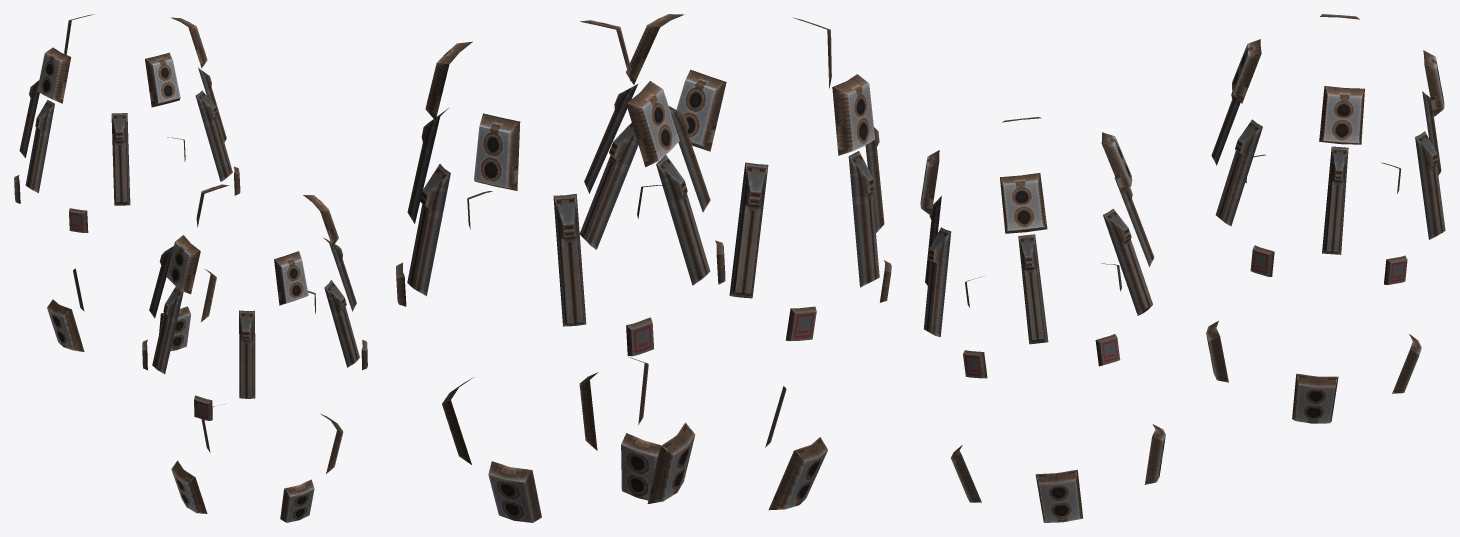
The model's file is prop_static_yao_container_02_06_0.glb.
3 views of the same model, side by side, from view 1: azimuth 30°, elevation 25°; view 2: azimuth 150°, elevation 25°; view 3: azimuth 270°, elevation 25° (orthographic). The views are drawn at different scales.
Visible parts, largest first — view 1: yao_container_02_06_LOD0; view 2: yao_container_02_06_LOD0; view 3: yao_container_02_06_LOD0.
Part boxes in pixels (x1,y1,x2,y2): yao_container_02_06_LOD0: (14,14,367,522); yao_container_02_06_LOD0: (396,14,891,522); yao_container_02_06_LOD0: (920,14,1445,522).
Size of what is drawn, in the model's own units: 1.42 by 2.53 by 2.7.
1 material, 1 textured.
